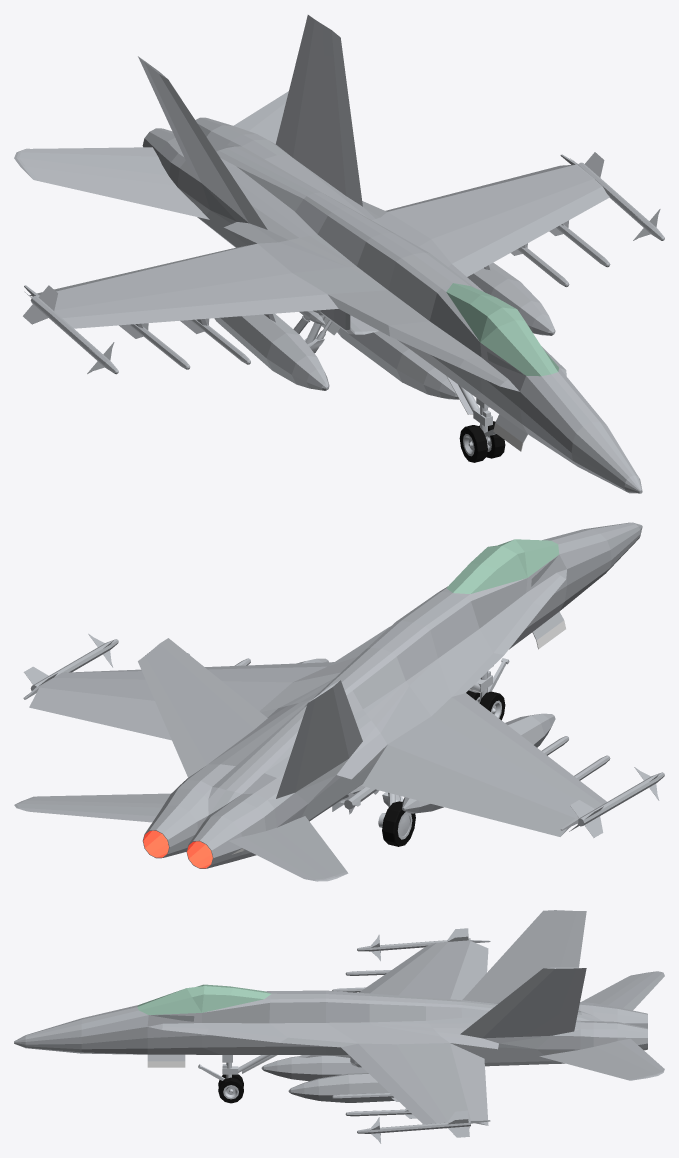
File: hornet.glb
The picture shows the model from 3 angles, top to bottom: view 1: azimuth 30°, elevation 25°; view 2: azimuth 150°, elevation 25°; view 3: azimuth 270°, elevation 25°; orthographic projection. The views are drawn at different scales.
Visible parts, largest first — view 1: aircraft_0; view 2: aircraft_0; view 3: aircraft_0.
Part boxes in pixels (x1,y1,x2,y2): aircraft_0: [14, 15, 664, 493]; aircraft_0: [14, 522, 664, 881]; aircraft_0: [14, 910, 664, 1143].
Bounding box in the file's own units: 7.42 × 2.9 × 10.68.
